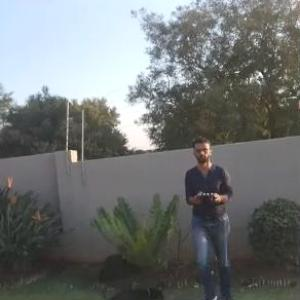follow: (178, 136, 238, 299)
null: (94, 283, 168, 299)
